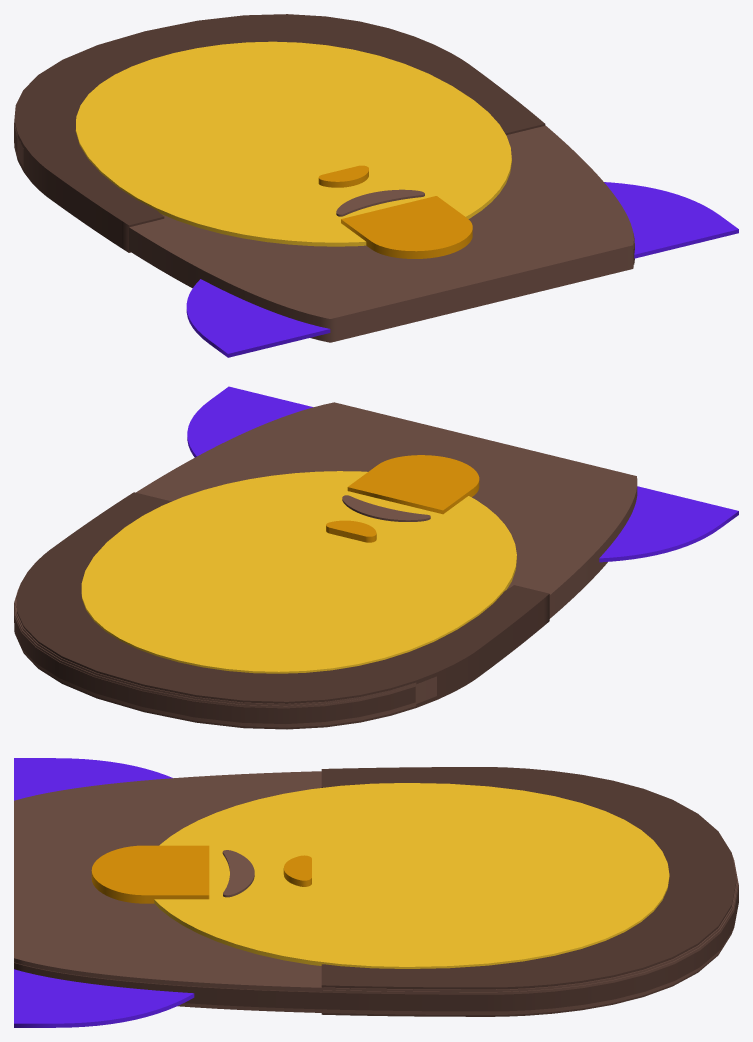
File: emoji_u1f64d_200d_2640.glb
The picture shows the model from 3 angles, top to bottom: view 1: azimuth 30°, elevation 25°; view 2: azimuth 150°, elevation 25°; view 3: azimuth 270°, elevation 25°; orthographic projection. The views are drawn at different scales.
Visible parts, largest first — view 1: emoji_u1f64d_200d_2640; view 2: emoji_u1f64d_200d_2640; view 3: emoji_u1f64d_200d_2640.
Boxes of the visible parts, bbox=[...] form: emoji_u1f64d_200d_2640: bbox=[14, 14, 738, 357]; emoji_u1f64d_200d_2640: bbox=[14, 386, 738, 729]; emoji_u1f64d_200d_2640: bbox=[14, 758, 738, 1027].
Bounding box in the file's own units: 0.0271 × 0.0022 × 0.0313.
